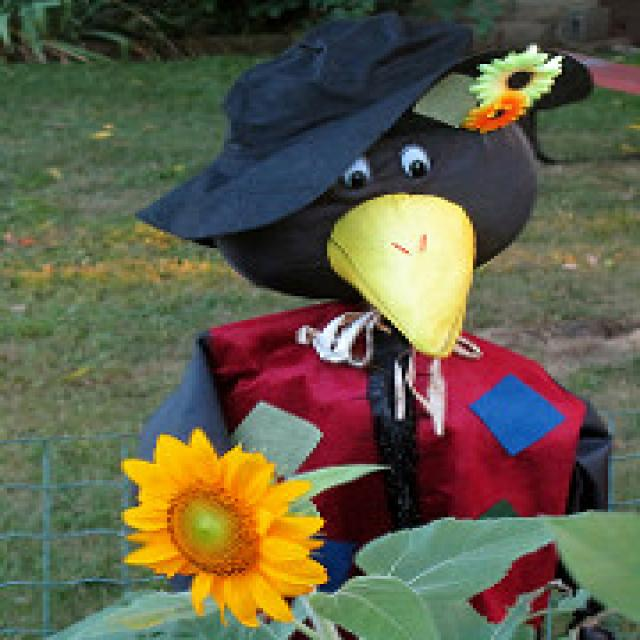sunflower: (126, 427, 331, 626), (468, 43, 571, 101)
